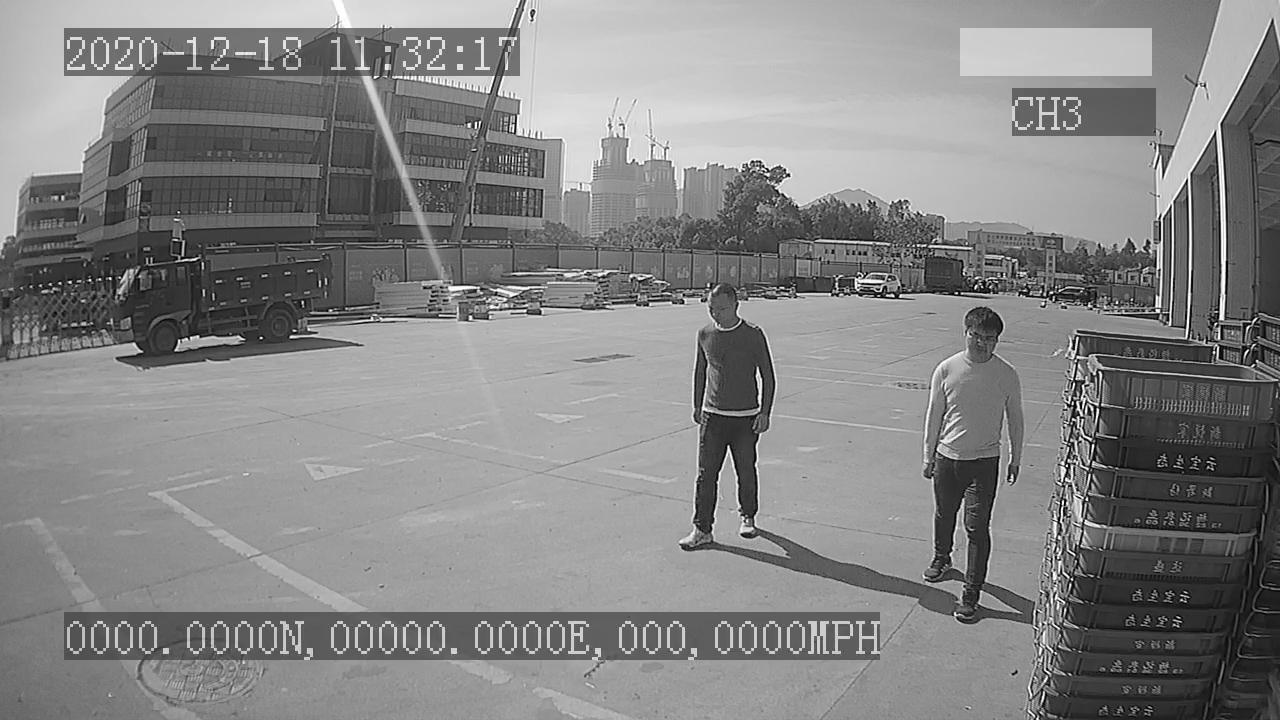person: (920, 306, 1025, 617), (675, 279, 779, 557)
